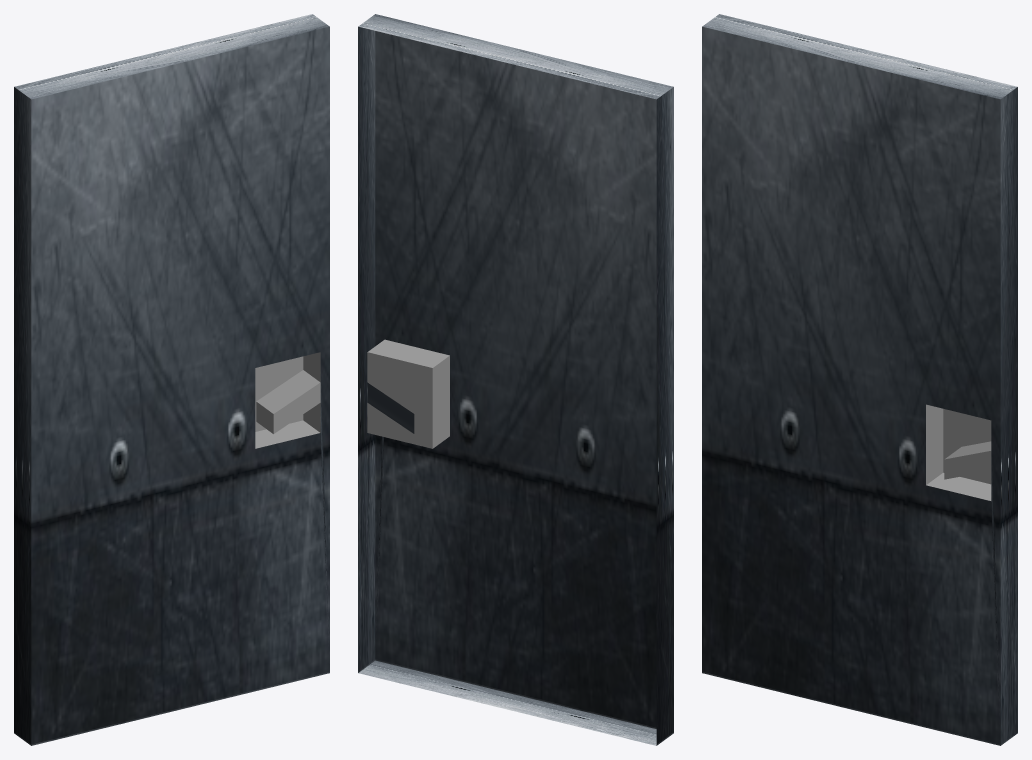
Rendered from train door end.fbx.
3 renders of one model, left to right at view 1: azimuth 30°, elevation 25°; view 2: azimuth 150°, elevation 25°; view 3: azimuth 330°, elevation 25°, orthographic.
Parts seen in each view (by area): view 1: polySurface4, polySurface3, polySurface2; view 2: polySurface4, polySurface3; view 3: polySurface4, polySurface3, polySurface2.
Part boxes in pixels (bbox=[...]): polySurface4: bbox=[14, 14, 329, 745]; polySurface3: bbox=[255, 352, 320, 448]; polySurface2: bbox=[256, 370, 320, 433]; polySurface4: bbox=[358, 14, 673, 745]; polySurface3: bbox=[367, 339, 449, 448]; polySurface4: bbox=[702, 14, 1017, 745]; polySurface3: bbox=[926, 404, 991, 500]; polySurface2: bbox=[944, 441, 991, 479].
Size of the model in its own units: 100 by 207 by 10.
